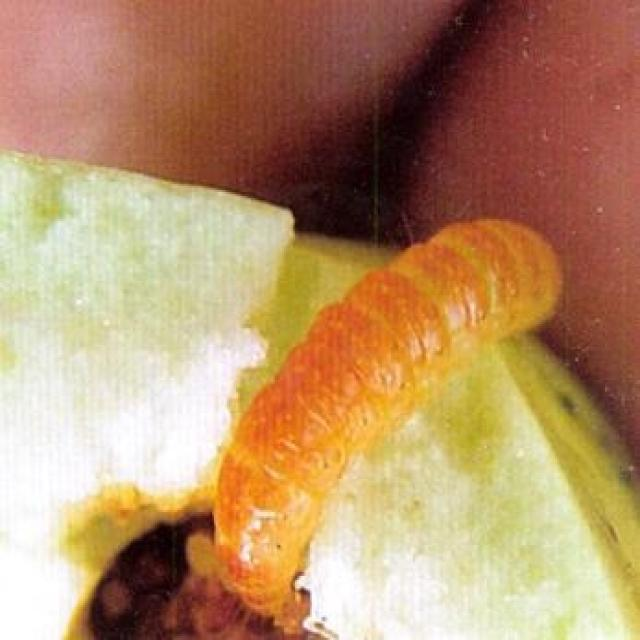peach borer: (195, 206, 575, 615)
